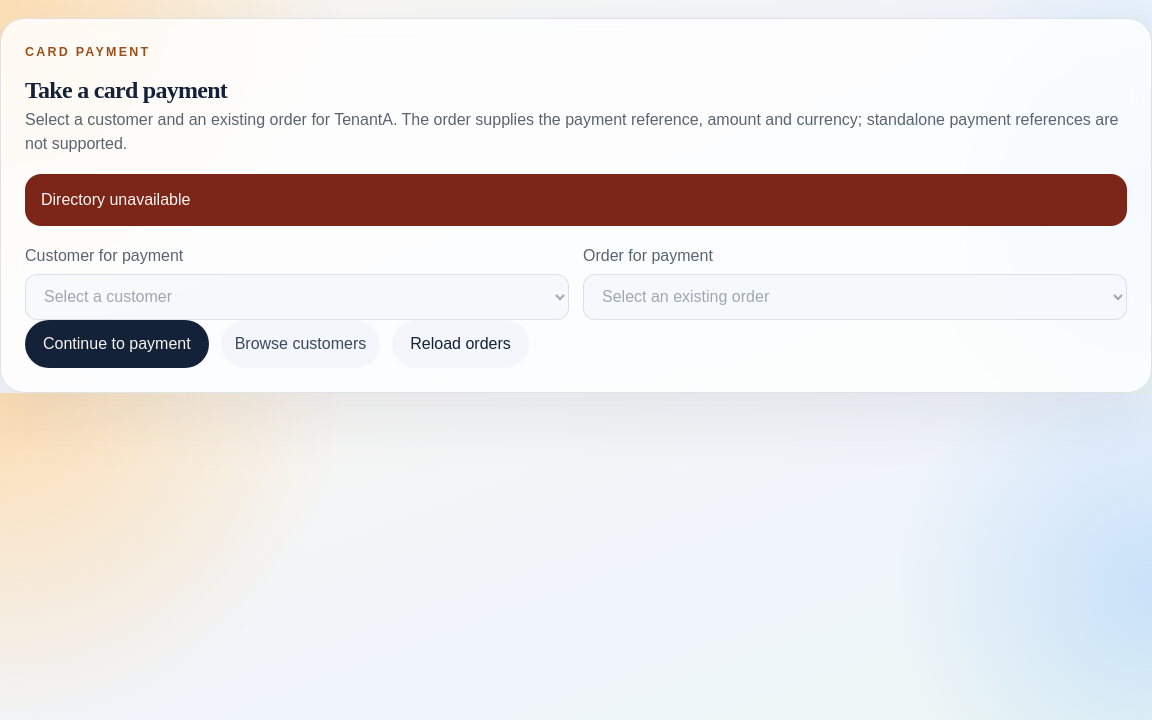
Test: Payments entry selects persisted orders › reports load failure and supports retry without submitting a payment
Expected: the message reads "Directory unavailable", [41,191,190,208]
Click the button "Reload orders" at point(461, 344), box [392,320,529,368]
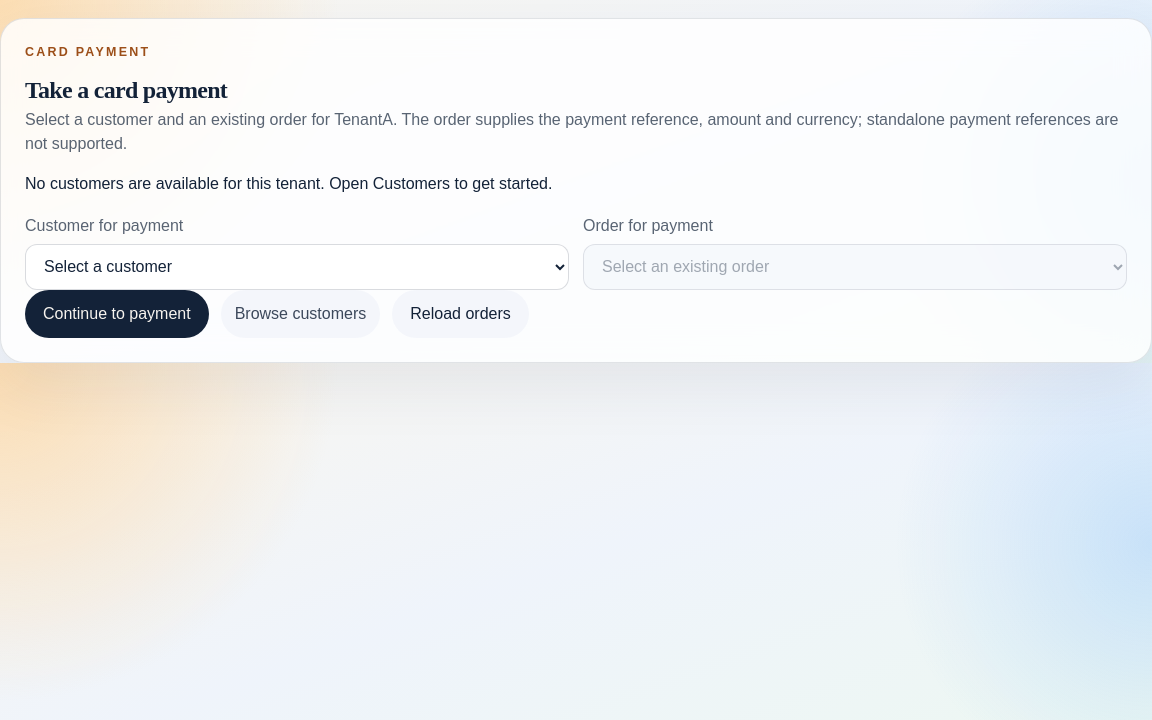
Result: the text "No customers are available" is shown at [25,175,552,192]
Result: the message "Directory unavailable" is gone
